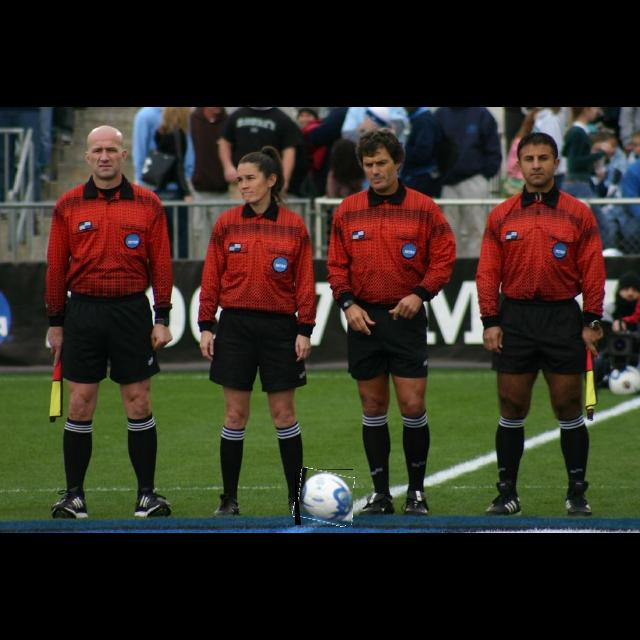Football: (295, 469, 353, 525)
